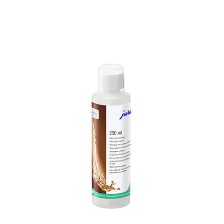cleaning_solution: (86, 60, 133, 211)
